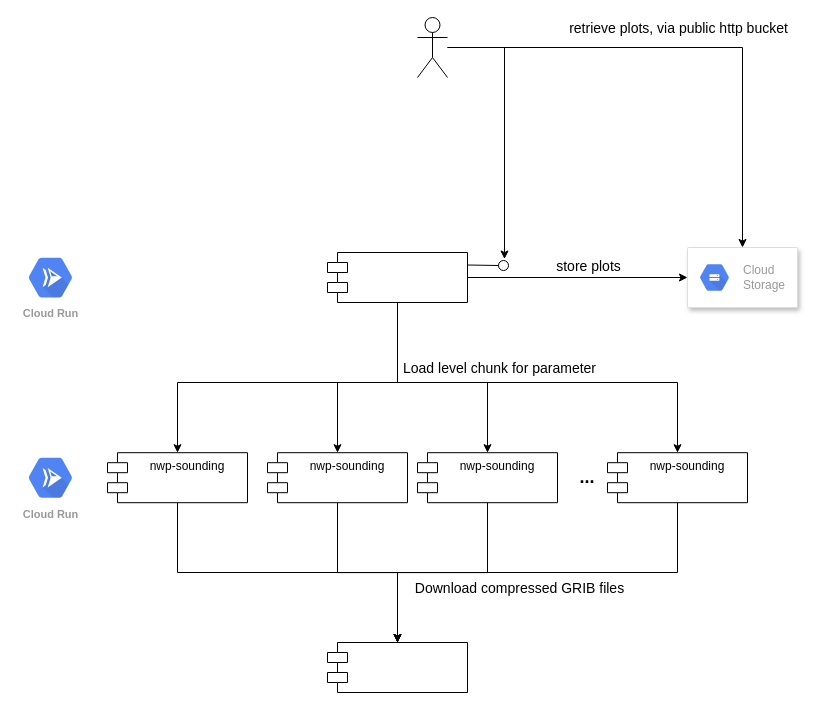
Some shapes in this 821 by 710 pixel diagram are drawn without their labels. Each missing label, with the centre of its shape:
"Actor" belongs at pixel 432 47.
"DWD Open Data Server" belongs at pixel 397 667.
"icon-skewt-plot" belongs at pixel 397 277.
